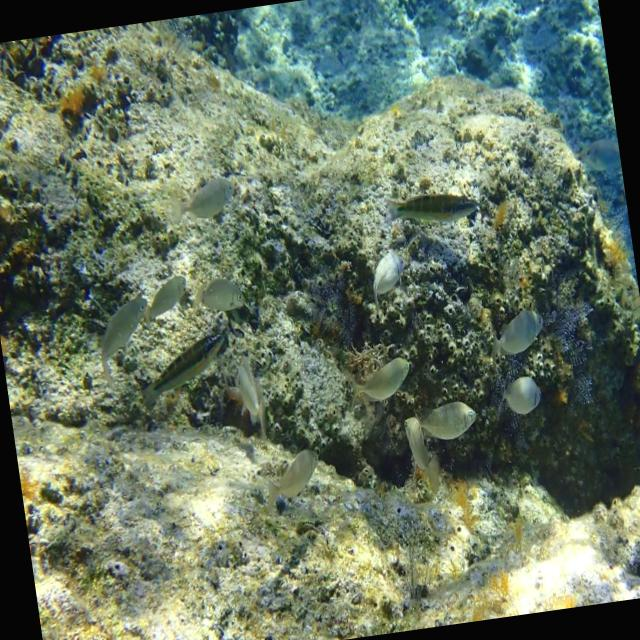Sokar Baligi: (154, 153, 252, 240), (254, 434, 338, 535), (332, 346, 427, 418), (353, 234, 421, 317)
